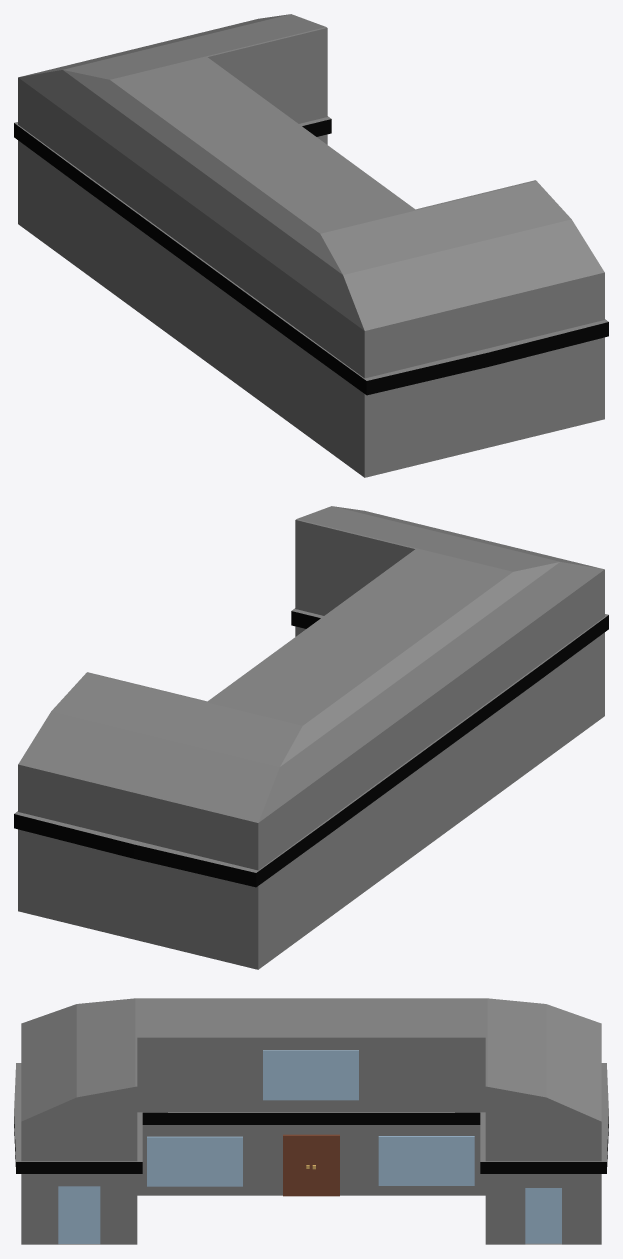
The model's file is mall.fbx.
3 renders of one model, top to bottom at view 1: azimuth 30°, elevation 25°; view 2: azimuth 150°, elevation 25°; view 3: azimuth 270°, elevation 25°, orthographic. The views are drawn at different scales.
Visible parts, largest first — view 1: Cube; view 2: Cube; view 3: Cube.
Boxes of the visible parts, x1,y1,x2,y2 form: Cube: [14, 14, 608, 477]; Cube: [14, 506, 608, 969]; Cube: [14, 998, 608, 1244].
Size of the model in its own units: 404 by 300 by 1025.
